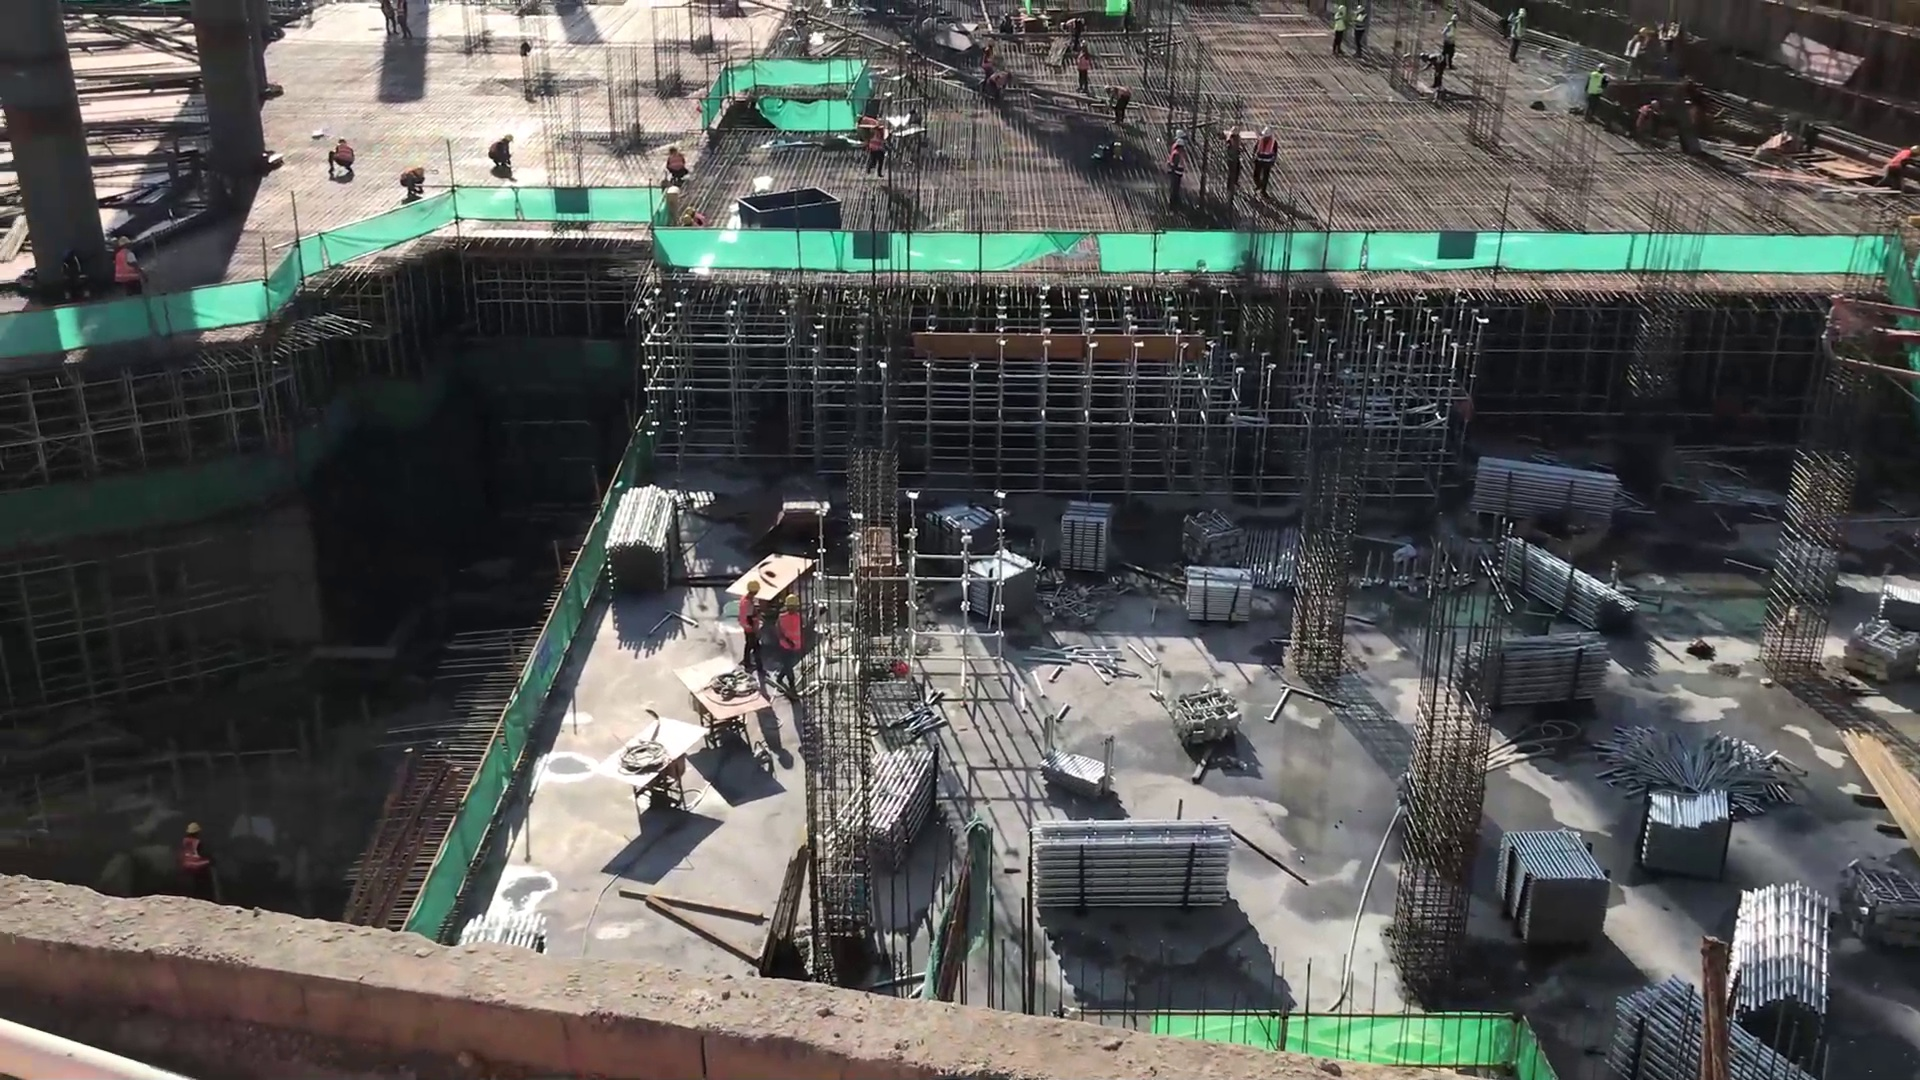helmet: (111, 235, 137, 252), (740, 576, 761, 596), (784, 594, 804, 610), (180, 823, 206, 835), (1515, 5, 1528, 22), (498, 131, 514, 143), (1175, 136, 1187, 150), (1595, 60, 1608, 75), (1260, 127, 1273, 138), (1638, 27, 1649, 37), (1353, 5, 1364, 15), (1449, 14, 1458, 22), (1337, 6, 1346, 13)
person: (735, 576, 769, 683), (776, 594, 807, 701), (111, 235, 148, 299), (1252, 126, 1280, 194), (1217, 122, 1243, 194), (1582, 60, 1612, 120), (1167, 137, 1191, 203), (326, 137, 362, 179), (485, 133, 516, 182), (1503, 6, 1529, 65), (1416, 50, 1448, 93), (1625, 26, 1650, 77), (661, 143, 692, 182), (1104, 82, 1132, 124), (1636, 100, 1660, 146), (396, 167, 425, 203), (1350, 3, 1368, 59), (1440, 12, 1461, 56), (1075, 39, 1091, 93), (1331, 4, 1347, 52)
scaffold: (1022, 802, 1237, 927), (1726, 870, 1857, 992), (1493, 618, 1615, 714), (599, 471, 680, 604)
vest: (736, 596, 768, 637), (776, 610, 804, 654)
